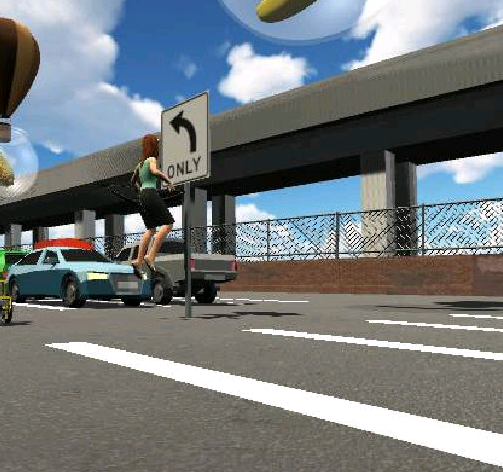arrow_left: (166, 110, 201, 153)
